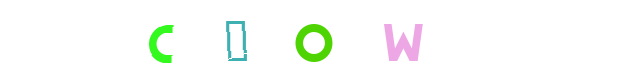4: (216, 0, 296, 80)
C: (193, 0, 273, 80)
O: (270, 0, 350, 80)
W: (363, 0, 443, 80)
